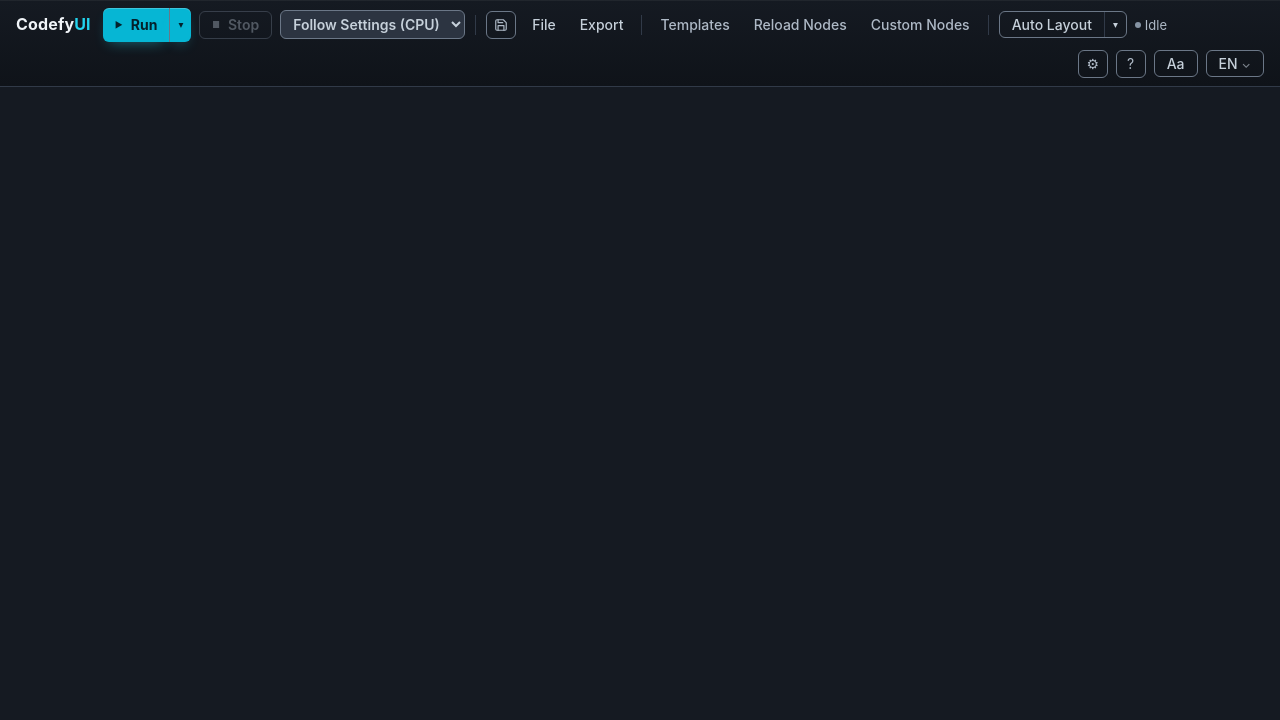
Scenario: Toolbar › File menu closes on outside mousedown
This screenshot has width=1280, height=720.
Click the button "File": [544, 25] box [524,11,564,39]
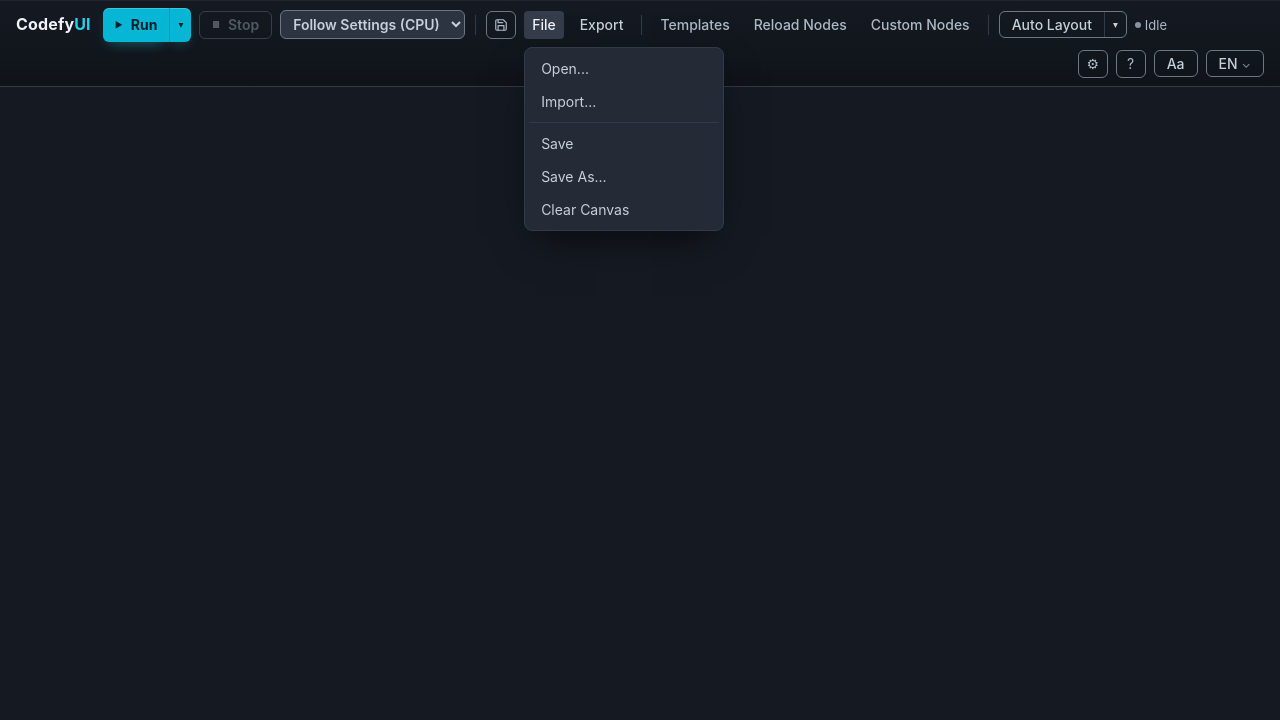
expect the button "Save" is shown: met, box [529,126,719,160]
Press the mouse on the element that starts with "Codefy": [640, 360] box [0,0,1279,719]
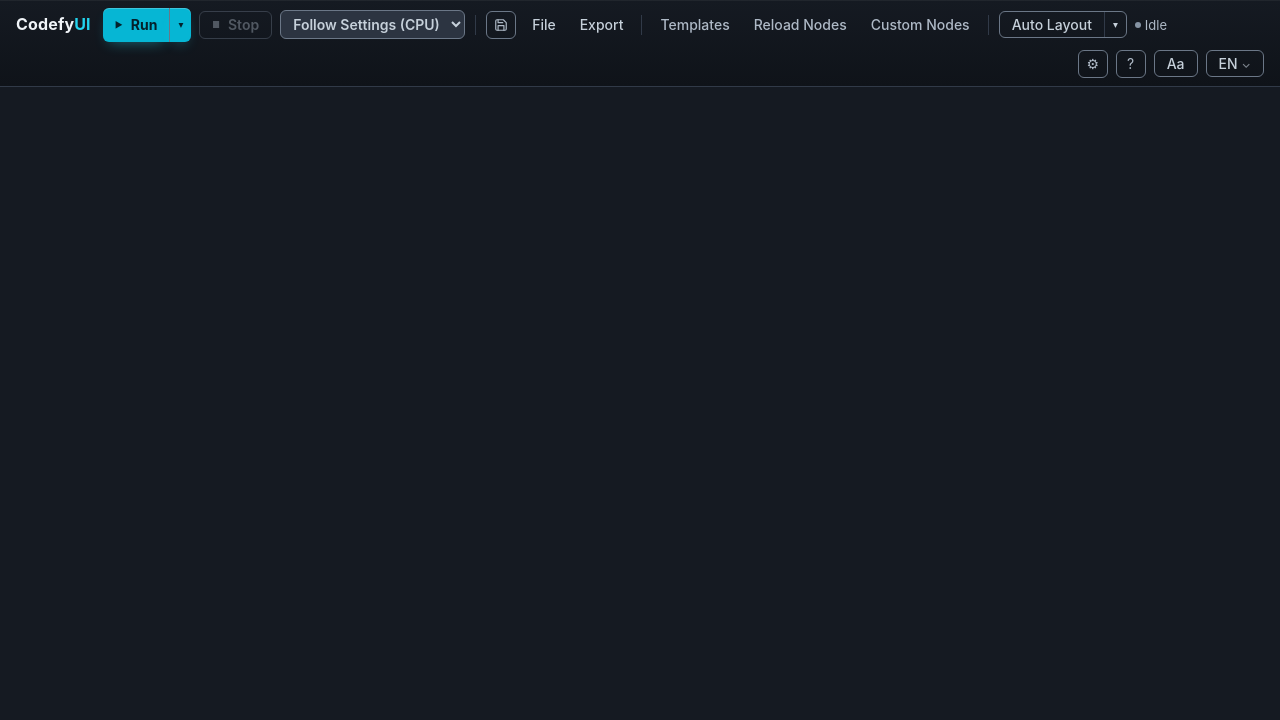
expect the button "Save" is gone: met
